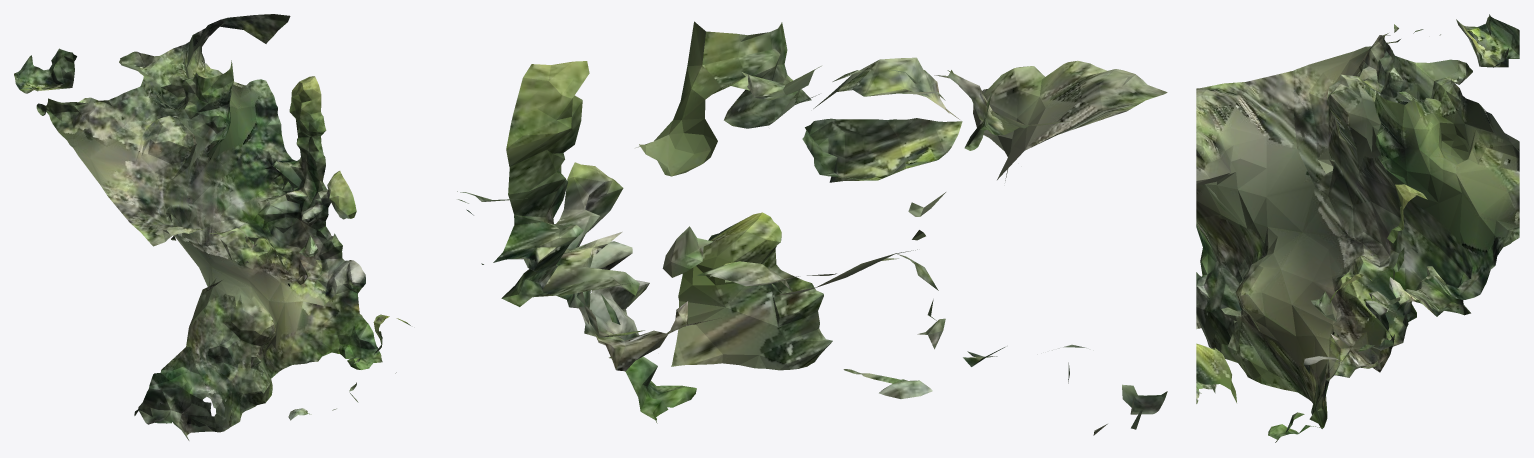
3 views of the same model, side by side, from view 1: azimuth 30°, elevation 25°; view 2: azimuth 150°, elevation 25°; view 3: azimuth 270°, elevation 25° (orthographic). The views are drawn at different scales.
Size of the model in its own units: 26.11 by 26.11 by 26.11.
Materials: 4 (4 with a texture image).
